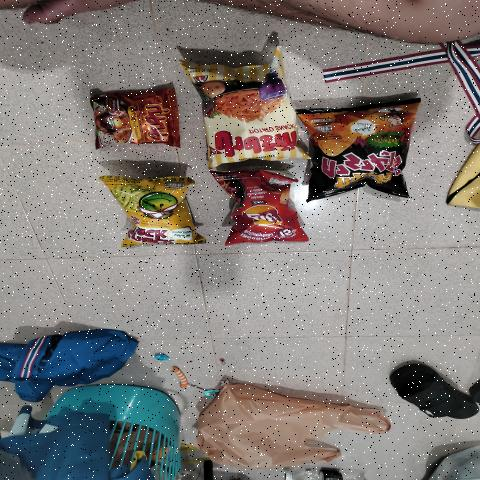karamujo: (319, 115, 406, 191)
mama: (100, 104, 169, 145)
paprika: (211, 55, 290, 155)
snack_jack: (137, 184, 190, 244)
